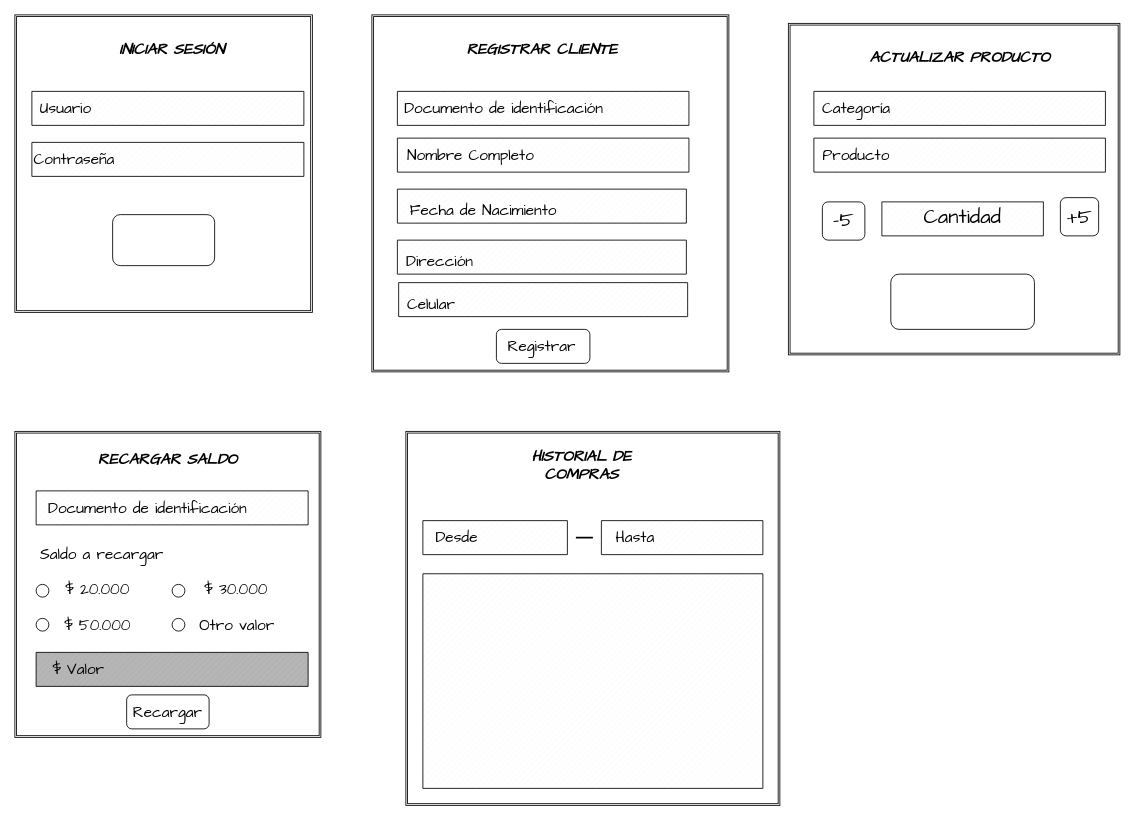
Image size: 1135x820. Some labels were removed from this diagram. Here are the shapes that lost their labels. From the top down, the box of each, then its label:
(112, 214, 215, 266): Ingresar
(890, 273, 1034, 329): Actualizar Cantidad
